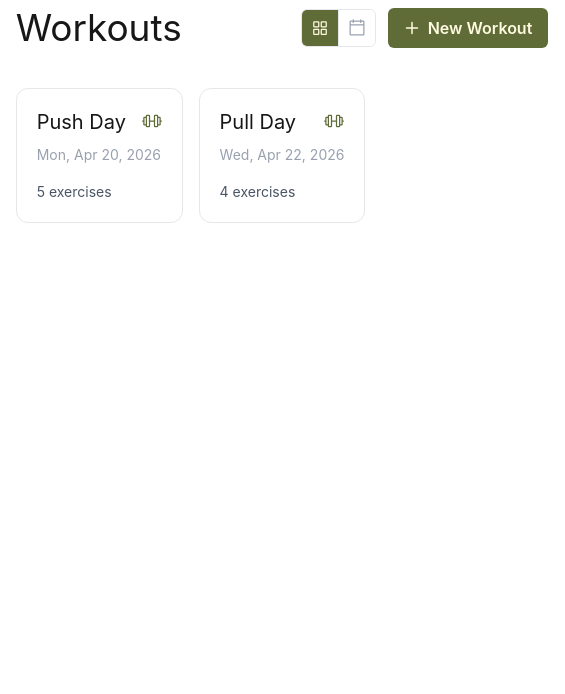
Test: WorkoutsView — calendar view › hides the selected-day panel when the same day is clicked again
Click the button named "Calendar view": {"x": 356, "y": 28} [338, 10, 375, 46]
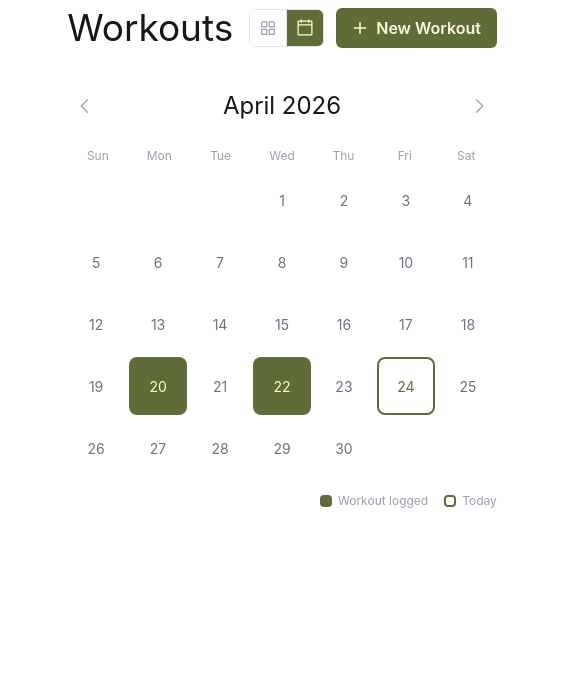
Click the button "20": {"x": 158, "y": 386} [129, 357, 187, 415]
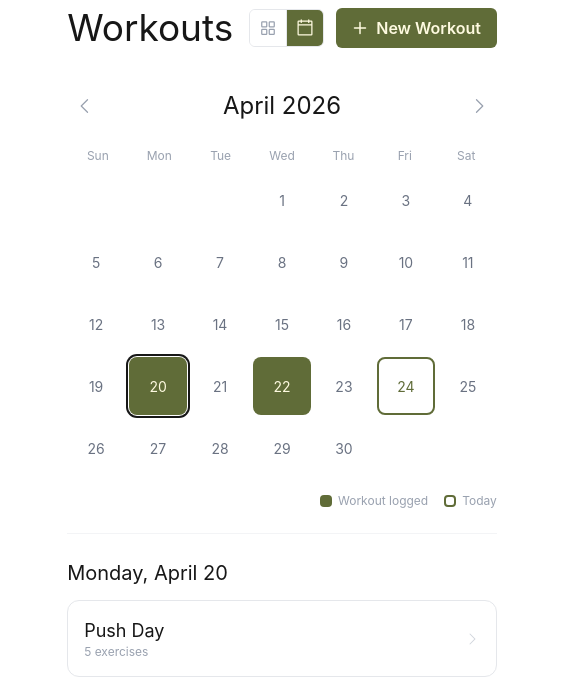
Check: the heading "Push Day" is shown, box [84, 617, 164, 644]
Click the button "20": {"x": 158, "y": 386} [129, 357, 187, 415]
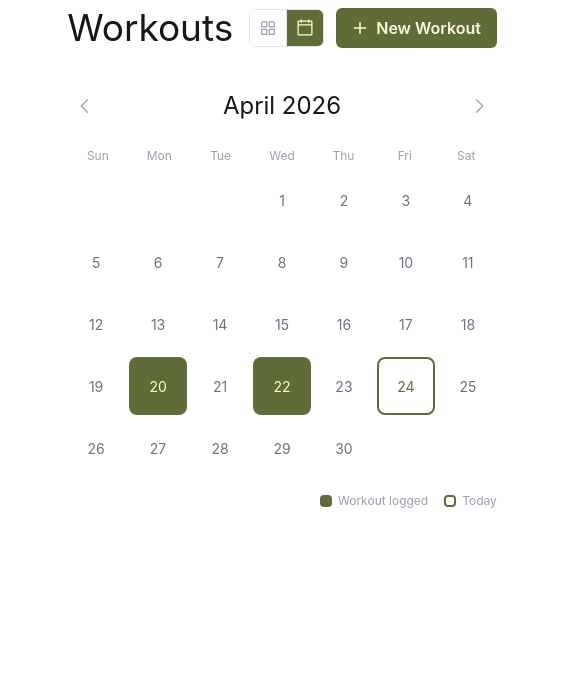
Check: the link "Push Day" is gone
